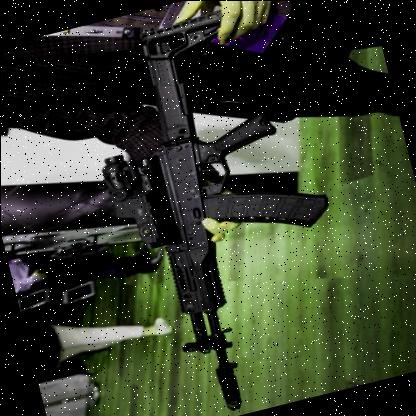rifle: (87, 0, 392, 416)
